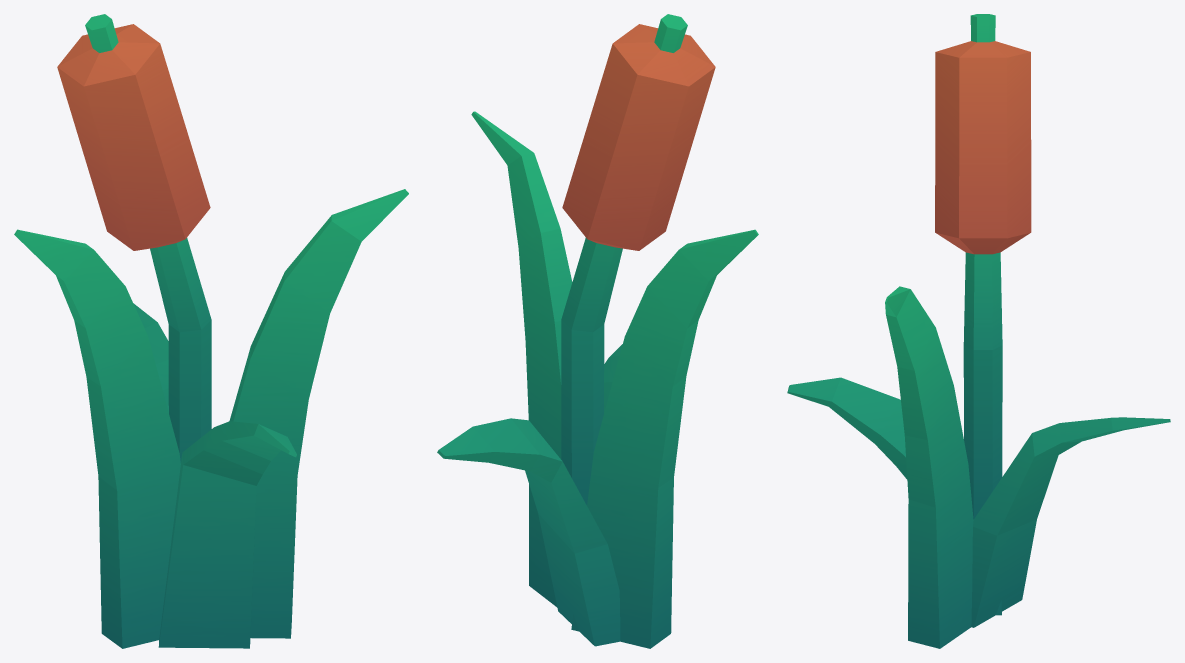
Rendered from Reed.glb.
3 views of the same model, side by side, from view 1: azimuth 30°, elevation 25°; view 2: azimuth 150°, elevation 25°; view 3: azimuth 270°, elevation 25° (orthographic). The views are drawn at different scales.
Parts seen in each view (by area): view 1: Reed; view 2: Reed; view 3: Reed.
Part boxes in pixels (bbox=[...]): Reed: bbox=[14, 14, 408, 648]; Reed: bbox=[437, 14, 758, 648]; Reed: bbox=[787, 14, 1170, 648].
Bounding box in the file's own units: 0.6431 × 1.13 × 0.6976.
1 material, 1 textured.
